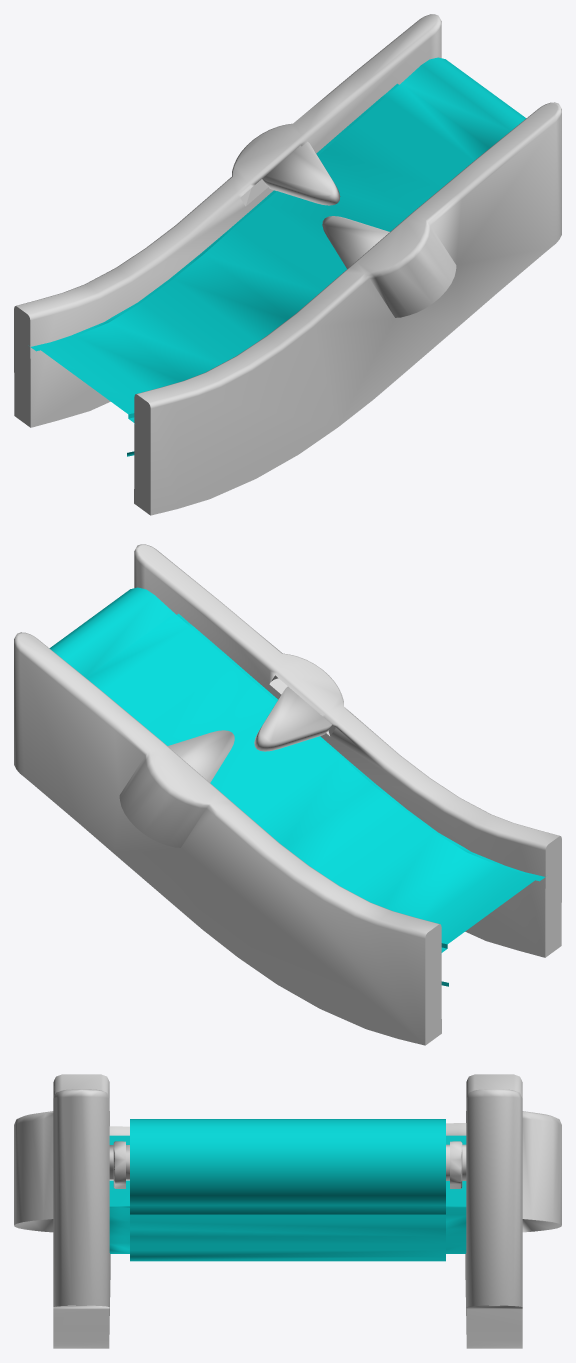
The model's file is BeltPortReceiverInternalVariant.gltf.
The picture shows the model from 3 angles, top to bottom: view 1: azimuth 30°, elevation 25°; view 2: azimuth 150°, elevation 25°; view 3: azimuth 270°, elevation 25°; orthographic projection. The views are drawn at different scales.
Visible parts, largest first — view 1: BeltPort_Receiver_Main_LOD0, BeltPort_StopperR_Main_LOD0, BeltPort_StopperL_Main_LOD0; view 2: BeltPort_Receiver_Main_LOD0, BeltPort_StopperL_Main_LOD0, BeltPort_StopperR_Main_LOD0; view 3: BeltPort_Receiver_Main_LOD0.
Part boxes in pixels (box(x1,y1,x2,y2)): BeltPort_Receiver_Main_LOD0: box(14, 14, 561, 515); BeltPort_StopperR_Main_LOD0: box(262, 141, 340, 205); BeltPort_StopperL_Main_LOD0: box(322, 216, 389, 268); BeltPort_Receiver_Main_LOD0: box(14, 544, 561, 1045); BeltPort_StopperL_Main_LOD0: box(254, 686, 331, 751); BeltPort_StopperR_Main_LOD0: box(168, 730, 234, 782); BeltPort_Receiver_Main_LOD0: box(14, 1074, 561, 1348).
Size of the model in its own units: 1 by 0.6972 by 0.6631.
